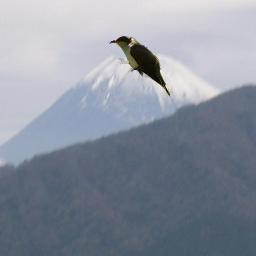Cuckoo: (108, 36, 170, 98)
